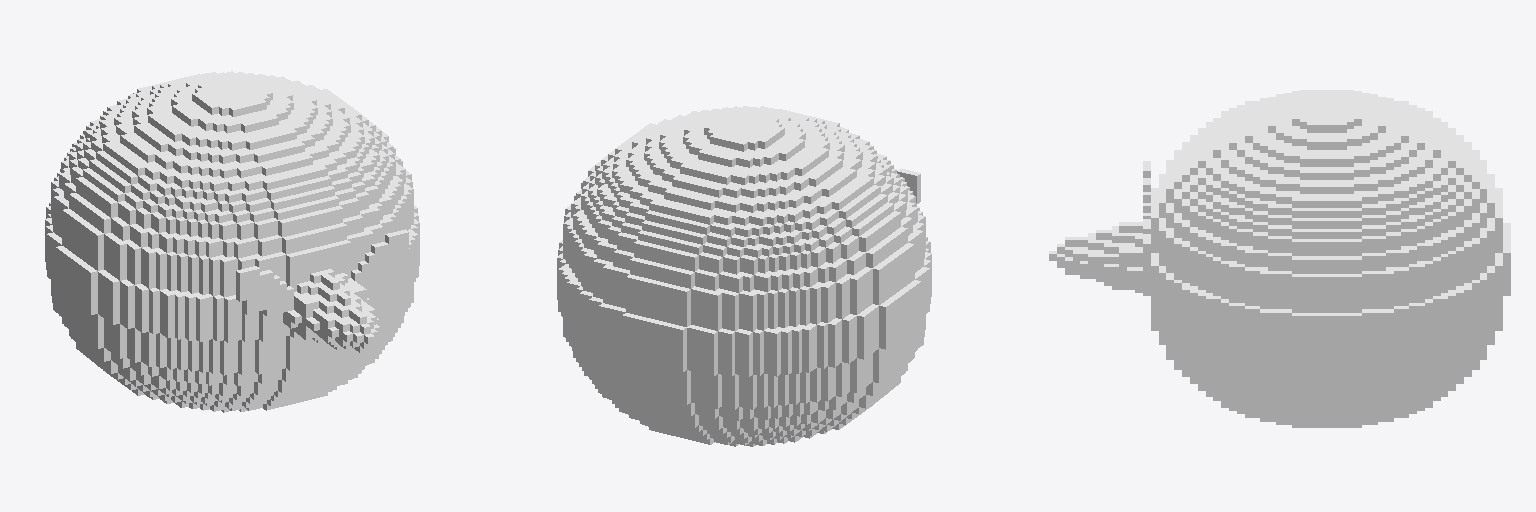
File: marte.obj
3 renders of one model, left to right at view 1: azimuth 30°, elevation 25°; view 2: azimuth 150°, elevation 25°; view 3: azimuth 270°, elevation 25°, orthographic.
Visible parts, largest first — view 1: marte; view 2: marte; view 3: marte.
Part boxes in pixels (x1,y1,x2,y2): marte: (45, 71, 419, 412); marte: (557, 106, 931, 446); marte: (1049, 90, 1510, 427).
Bounding box in the file's own units: 47 × 41 × 59.